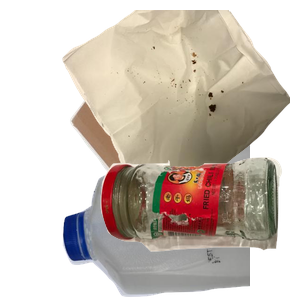cardboard: (67, 16, 295, 196)
glass: (98, 155, 300, 300)
plastic: (60, 135, 300, 300)
trash: (60, 10, 300, 190)
